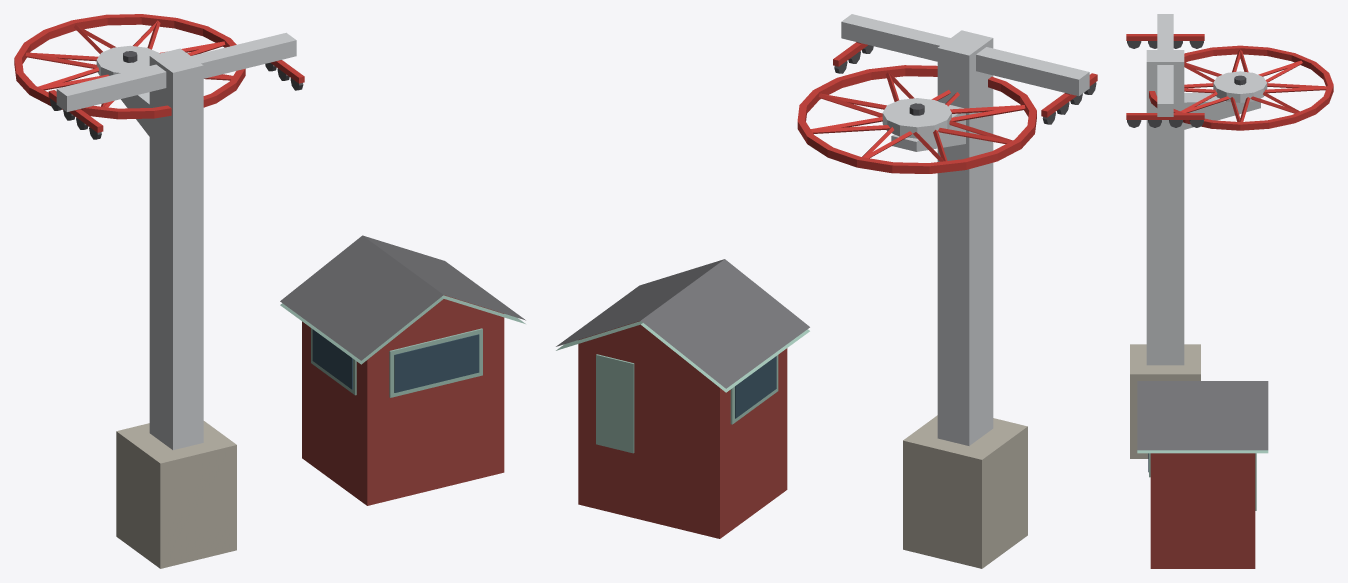
File: lift-station.glb
3 renders of one model, left to right at view 1: azimuth 30°, elevation 25°; view 2: azimuth 150°, elevation 25°; view 3: azimuth 270°, elevation 25°, orthographic. The views are drawn at different scales.
Visible parts, largest first — view 1: Base, Mast, Head, Bullwheel; view 2: Base, Mast, Head, Bullwheel; view 3: Base, Mast, Bullwheel, Head.
Part boxes in pixels (x1,y1,x2,y2): Base: [116, 235, 525, 568]; Mast: [149, 96, 203, 450]; Head: [48, 32, 304, 154]; Bullwheel: [14, 14, 245, 119]; Base: [556, 259, 1027, 568]; Mast: [937, 83, 993, 445]; Head: [833, 14, 1097, 151]; Bullwheel: [797, 65, 1036, 173]; Base: [1130, 344, 1268, 568]; Mast: [1146, 94, 1184, 365]; Bullwheel: [1149, 45, 1333, 130]; Head: [1126, 14, 1260, 129].
Bounding box in the file's own units: 11.1 × 11.45 × 5.55.
